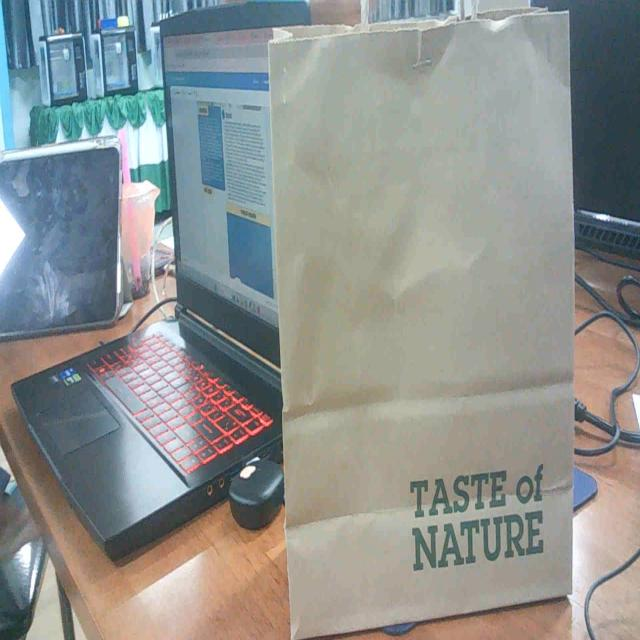bag: (240, 0, 606, 640)
